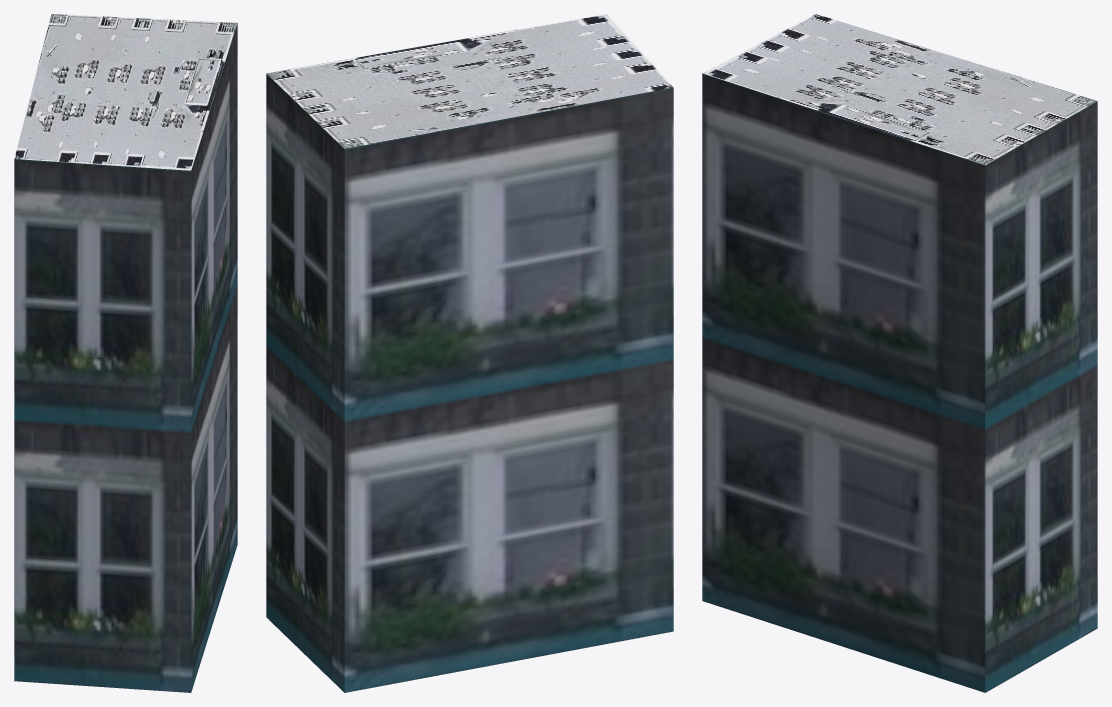
The model's file is ResTex__344.fbx.
3 views of the same model, side by side, from view 1: azimuth 30°, elevation 25°; view 2: azimuth 150°, elevation 25°; view 3: azimuth 270°, elevation 25° (orthographic). The views are drawn at different scales.
Parts seen in each view (by area): view 1: CityEngineMaterial_11_m, CityEngineMaterial_m; view 2: CityEngineMaterial_11_m, CityEngineMaterial_m; view 3: CityEngineMaterial_11_m, CityEngineMaterial_m.
Part boxes in pixels (left/top/right/bottom): CityEngineMaterial_11_m: left=14, top=23, right=237, bottom=692; CityEngineMaterial_m: left=14, top=14, right=237, bottom=170; CityEngineMaterial_11_m: left=266, top=73, right=673, bottom=692; CityEngineMaterial_m: left=267, top=14, right=673, bottom=148; CityEngineMaterial_11_m: left=702, top=73, right=1097, bottom=692; CityEngineMaterial_m: left=703, top=14, right=1096, bottom=165.
Bounding box in the file's own units: 3.69 × 6 × 4.07.
Materials: 2 (2 with a texture image).
